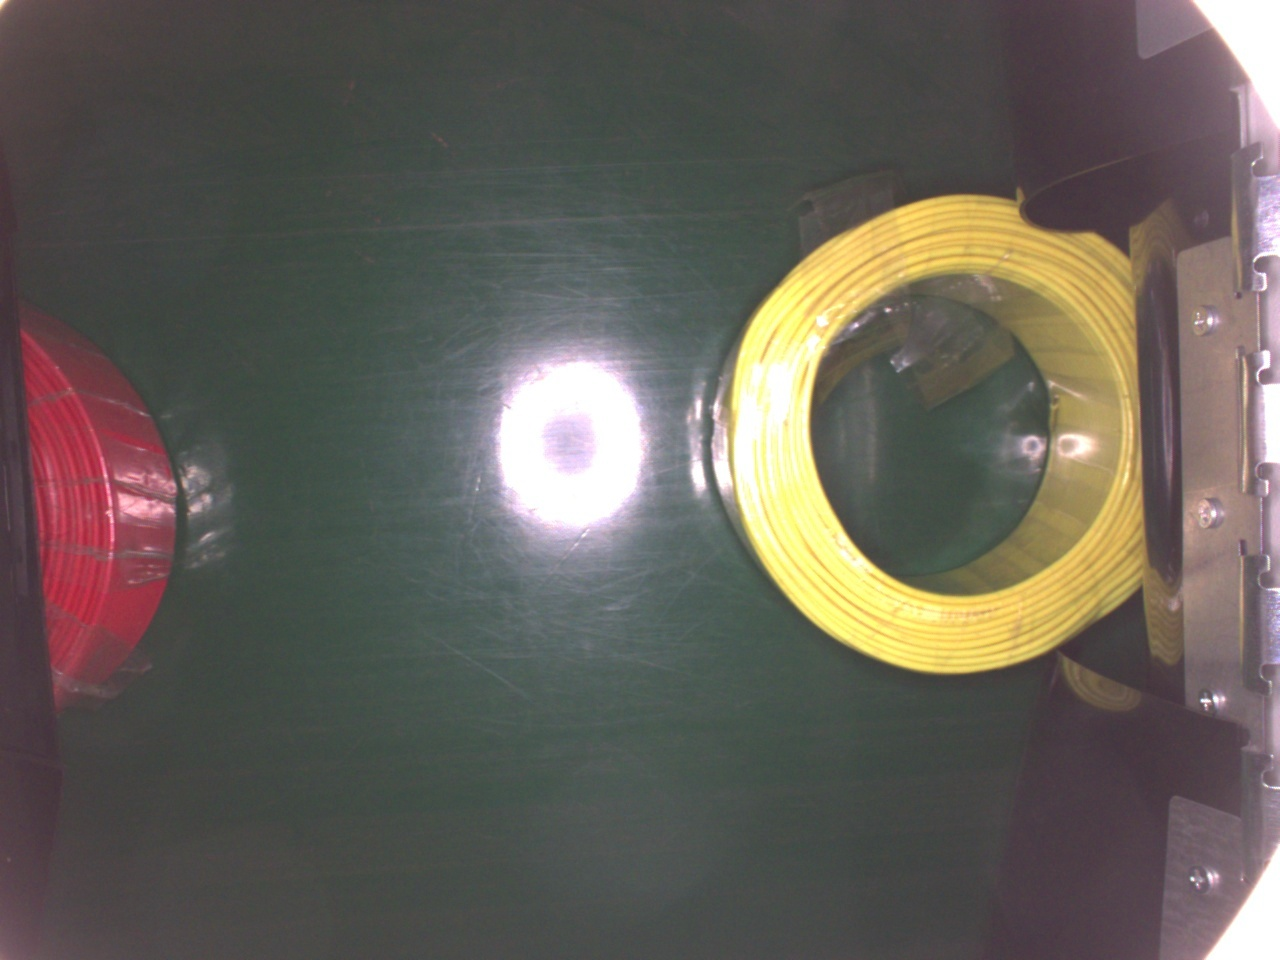red: (16, 292, 186, 713)
yellow: (706, 187, 1146, 683)
